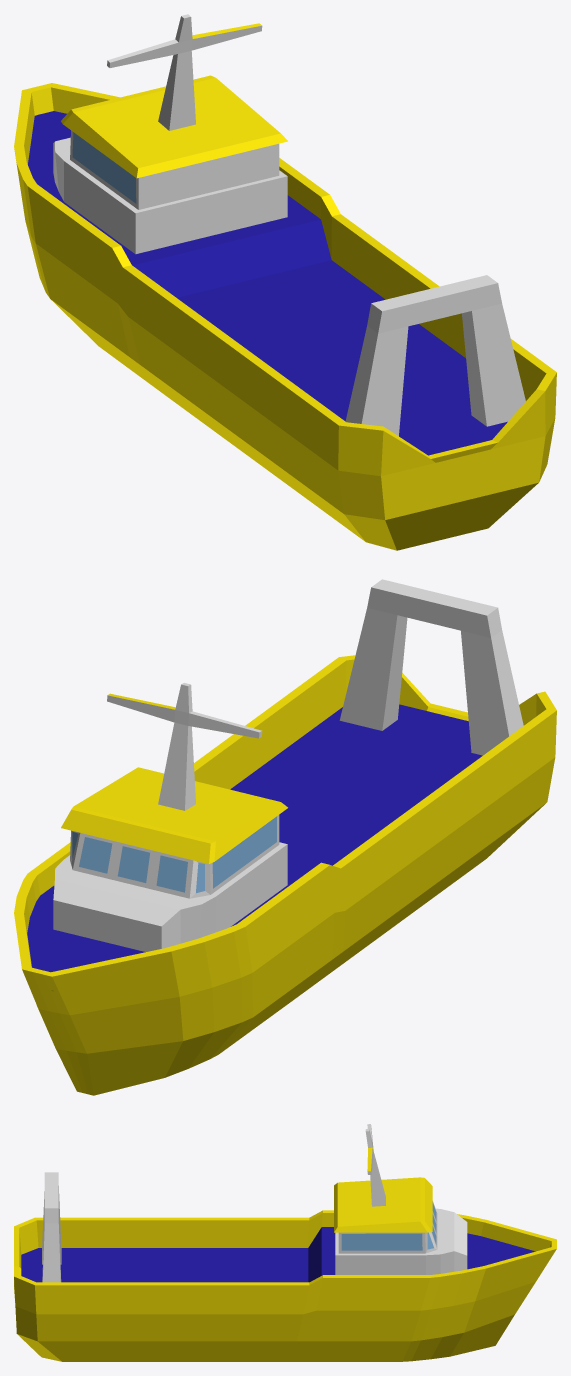
The model's file is BoatYellowBig.fbx.
The picture shows the model from 3 angles, top to bottom: view 1: azimuth 30°, elevation 25°; view 2: azimuth 150°, elevation 25°; view 3: azimuth 270°, elevation 25°; orthographic projection. The views are drawn at different scales.
Parts seen in each view (by area): view 1: BoatYelBig; view 2: BoatYelBig; view 3: BoatYelBig.
Boxes of the visible parts, box(x1,y1,x2,y2) form: BoatYelBig: box(14, 14, 556, 550); BoatYelBig: box(14, 579, 556, 1095); BoatYelBig: box(14, 1124, 556, 1361).
Bounding box in the file's own units: 278 × 409 × 943.
